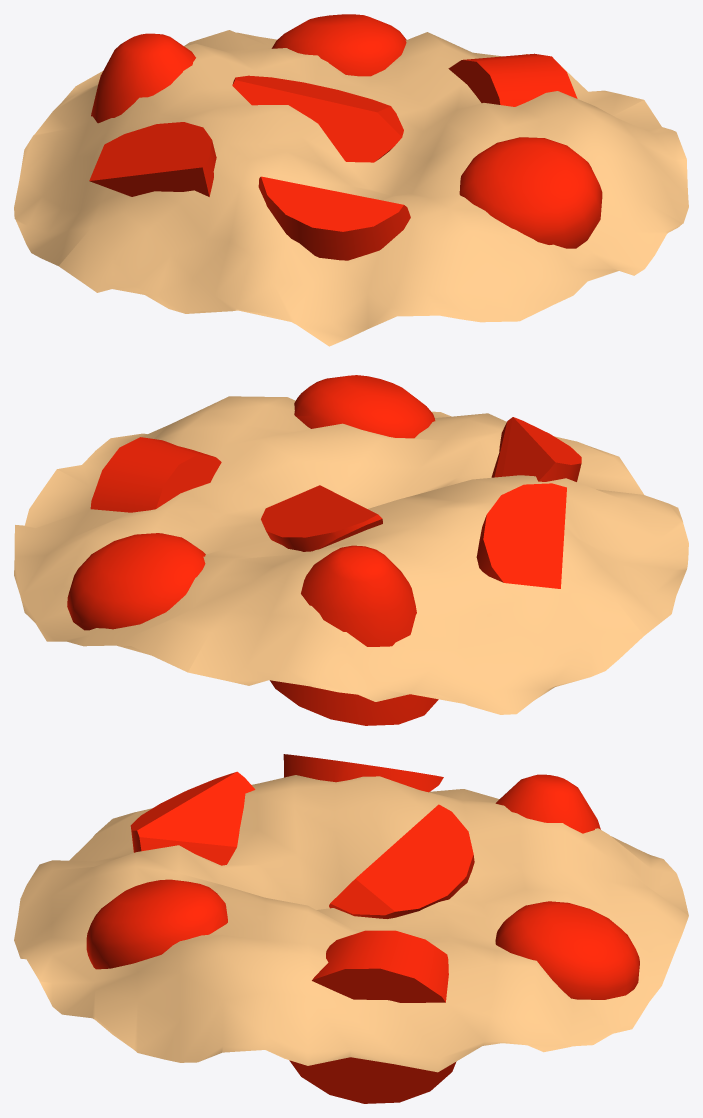
File: SM_Flour-Strawberry_Egg.fbx
3 renders of one model, top to bottom at view 1: azimuth 30°, elevation 25°; view 2: azimuth 150°, elevation 25°; view 3: azimuth 270°, elevation 25°, orthographic.
Visible parts, largest first — view 1: Flour-Strawberry_Egg; view 2: Flour-Strawberry_Egg; view 3: Flour-Strawberry_Egg.
Boxes of the visible parts, x1,y1,x2,y2 form: Flour-Strawberry_Egg: (14, 14, 688, 346); Flour-Strawberry_Egg: (14, 375, 688, 725); Flour-Strawberry_Egg: (14, 754, 688, 1103).
Size of the model in its own units: 98.58 by 30.49 by 98.96.
